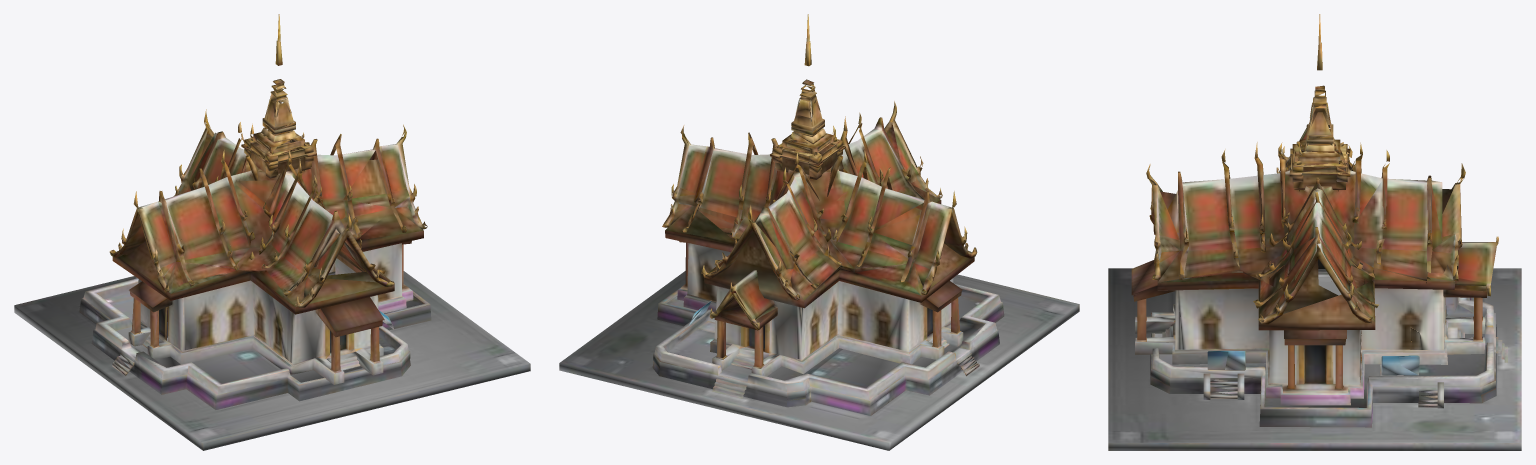
File: lm_grand_palace.glb
The picture shows the model from 3 angles, left to right: view 1: azimuth 30°, elevation 25°; view 2: azimuth 150°, elevation 25°; view 3: azimuth 270°, elevation 25°; orthographic projection. The views are drawn at different scales.
Visible parts, largest first — view 1: Body, Trim; view 2: Body, Trim; view 3: Body, Trim.
Part boxes in pixels (left/top/right/bottom): Body: left=14, top=79, right=530, bottom=450; Trim: left=121, top=14, right=416, bottom=305; Body: left=559, top=79, right=1079, bottom=450; Trim: left=671, top=14, right=967, bottom=319; Body: left=1108, top=85, right=1521, bottom=450; Trim: left=1146, top=14, right=1498, bottom=298.
Size of the model in its own units: 40 by 37.81 by 40.
2 materials, 2 textured.
